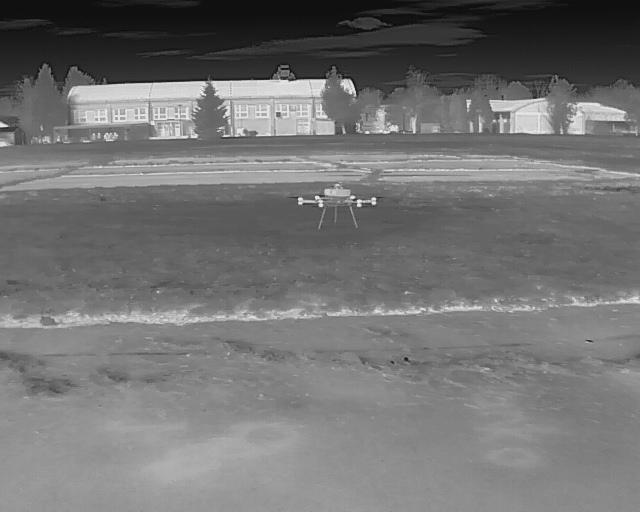drone: (288, 177, 378, 230)
